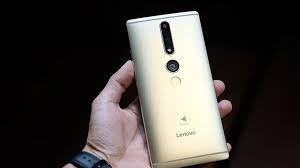lenovo: (122, 8, 231, 168)
